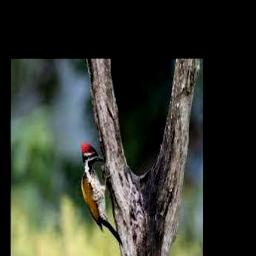Woodpecker: (81, 144, 123, 244)
